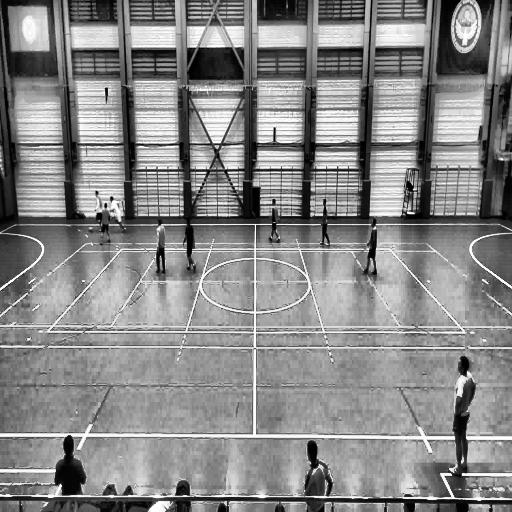ball: (87, 225, 94, 236)
player: (444, 354, 476, 475), (356, 218, 375, 279), (266, 196, 281, 241), (183, 217, 195, 272), (156, 216, 167, 274), (110, 196, 126, 234), (100, 202, 112, 248), (94, 190, 104, 234)
